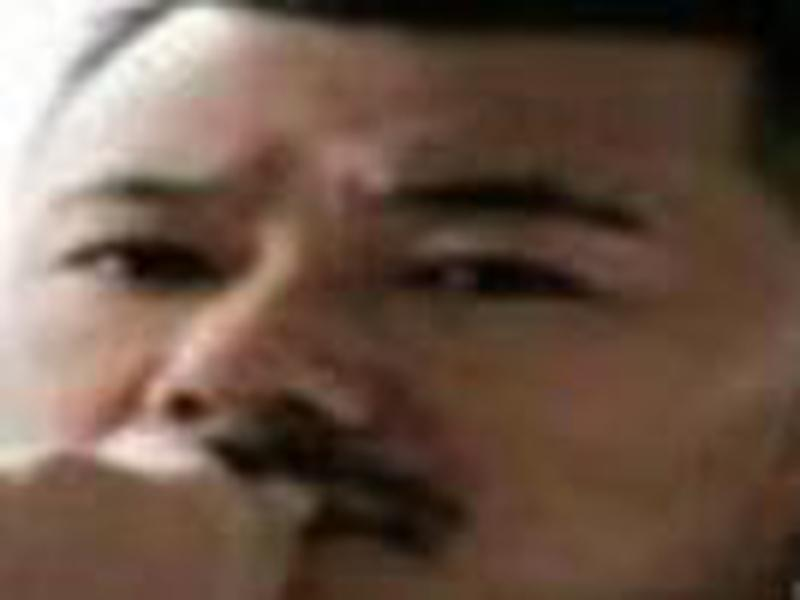without_mask: (8, 4, 778, 599)
